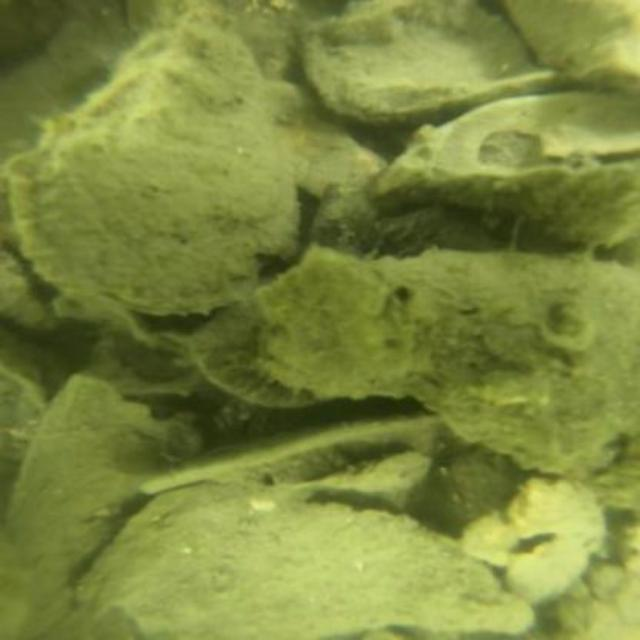Oyster-Closed: (255, 250, 640, 478), (40, 28, 293, 318), (91, 492, 545, 640), (0, 372, 221, 632), (378, 89, 640, 190)
